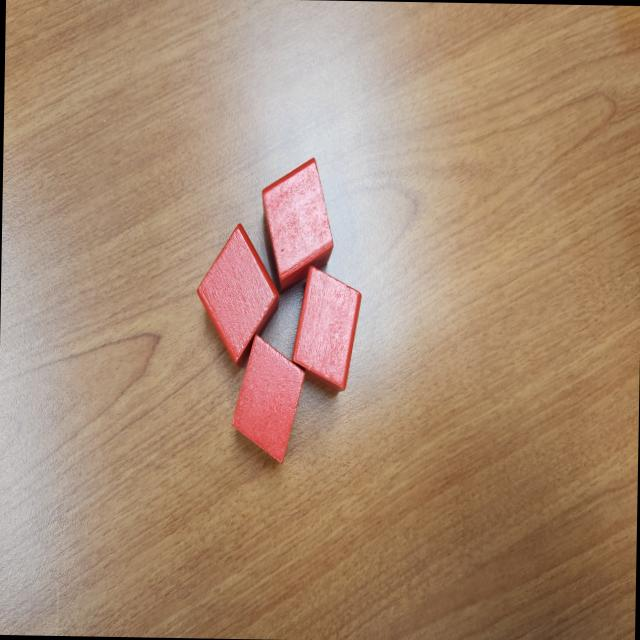red: (190, 221, 282, 371), (259, 154, 335, 292), (228, 332, 306, 466), (290, 263, 362, 394)
